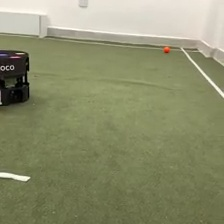ball: (162, 44, 172, 55)
goal: (1, 9, 49, 39)
robot: (1, 48, 31, 107)
